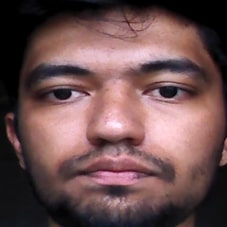awake: (23, 48, 211, 201)
